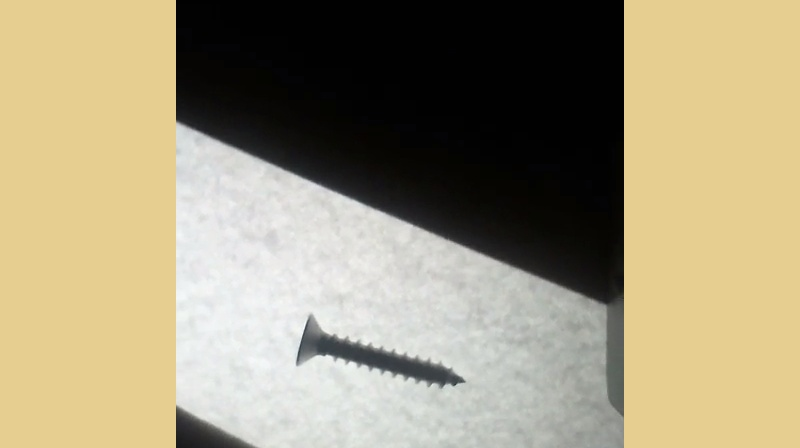S001: (290, 307, 471, 392)
